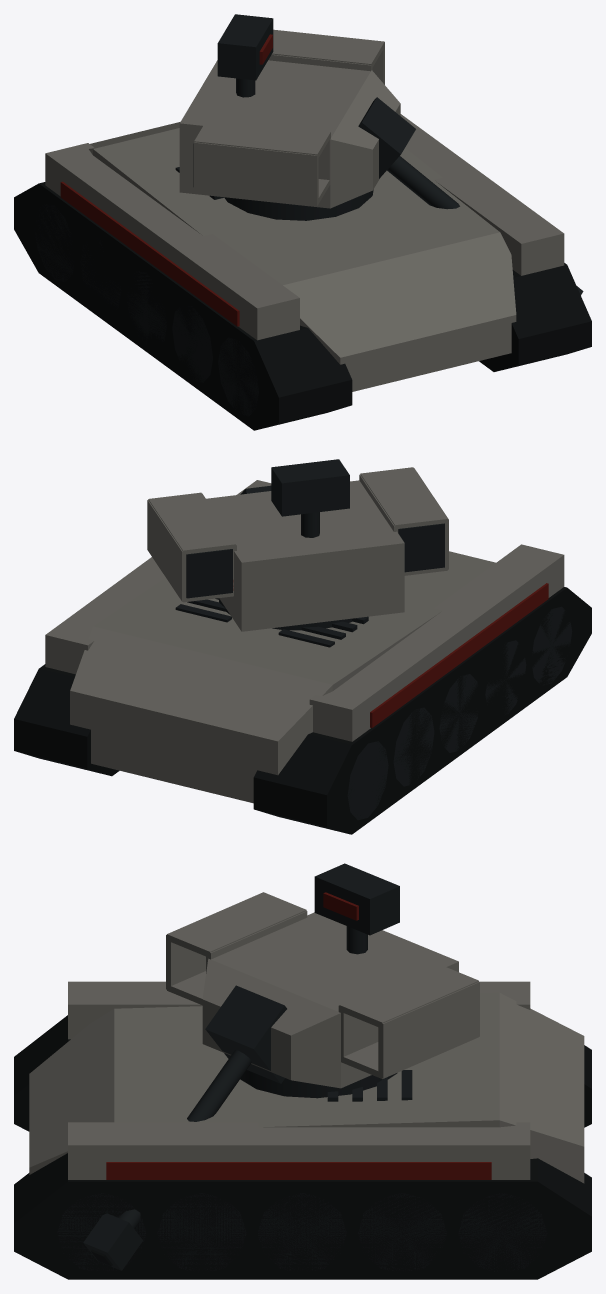
3 views of the same model, one above another, from view 1: azimuth 30°, elevation 25°; view 2: azimuth 150°, elevation 25°; view 3: azimuth 270°, elevation 25° (orthographic). The views are drawn at different scales.
Parts seen in each view (by area): view 1: drone-tank-fleet-armor, drone-tank-fleet-rubber, turret-fleet-armor, launcher--1-fleet-armor, launcher-1-fleet-armor, barrel-fleet-machine, drone-tank-fleet-red, radar-fleet-machine, wheel--1-4-fleet-machine, wheel--1-3-fleet-machine, drone-tank-fleet-machine, wheel--1-0-fleet-machine (+1 smaller); view 2: drone-tank-fleet-armor, drone-tank-fleet-rubber, turret-fleet-armor, launcher-1-fleet-armor, launcher--1-fleet-armor, radar-fleet-machine, drone-tank-fleet-red, wheel--1-0-fleet-machine, launcher-1-fleet-machine, drone-tank-fleet-machine, wheel--1-4-fleet-machine, launcher--1-fleet-machine (+3 smaller); view 3: drone-tank-fleet-armor, drone-tank-fleet-rubber, turret-fleet-armor, launcher-1-fleet-armor, barrel-fleet-machine, drone-tank-fleet-red, launcher--1-fleet-armor, radar-fleet-machine, wheel-1-3-fleet-machine, wheel-1-2-fleet-machine, wheel-1-1-fleet-machine, wheel-1-0-fleet-machine (+3 smaller).
Part boxes in pixels (<box>): drone-tank-fleet-armor: <box>45,114,564,391</box>; drone-tank-fleet-rubber: <box>14,182,591,430</box>; turret-fleet-armor: <box>179,60,400,208</box>; launcher--1-fleet-armor: <box>194,118,330,206</box>; launcher-1-fleet-armor: <box>268,29,384,84</box>; barrel-fleet-machine: <box>358,97,583,295</box>; drone-tank-fleet-red: <box>60,181,239,326</box>; radar-fleet-machine: <box>217,14,273,80</box>; wheel--1-4-fleet-machine: <box>218,337,258,416</box>; wheel--1-3-fleet-machine: <box>172,306,212,382</box>; drone-tank-fleet-machine: <box>175,167,373,220</box>; wheel--1-0-fleet-machine: <box>35,204,73,281</box>; drone-tank-fleet-armor: <box>45,480,564,803</box>; drone-tank-fleet-rubber: <box>14,587,591,834</box>; turret-fleet-armor: <box>206,480,404,631</box>; launcher-1-fleet-armor: <box>147,492,236,602</box>; launcher--1-fleet-armor: <box>359,467,448,575</box>; radar-fleet-machine: <box>271,459,349,516</box>; drone-tank-fleet-red: <box>370,583,548,727</box>; wheel--1-0-fleet-machine: <box>347,741,388,820</box>; launcher-1-fleet-machine: <box>186,549,232,598</box>; drone-tank-fleet-machine: <box>175,598,368,647</box>; wheel--1-4-fleet-machine: <box>532,606,572,685</box>; launcher--1-fleet-machine: <box>398,523,444,572</box>; drone-tank-fleet-armor: <box>29,981,584,1183</box>; drone-tank-fleet-rubber: <box>14,1015,591,1279</box>; turret-fleet-armor: <box>202,912,458,1088</box>; launcher-1-fleet-armor: <box>338,963,479,1078</box>; barrel-fleet-machine: <box>83,985,286,1270</box>; drone-tank-fleet-red: <box>106,1162,491,1179</box>; launcher--1-fleet-armor: <box>166,892,307,1005</box>; radar-fleet-machine: <box>314,863,399,935</box>; wheel-1-3-fleet-machine: <box>157,1193,246,1270</box>; wheel-1-2-fleet-machine: <box>258,1193,346,1270</box>; wheel-1-1-fleet-machine: <box>358,1193,446,1270</box>; wheel-1-0-fleet-machine: <box>458,1193,547,1271</box>.
Bounding box in the file's own units: 15.06 × 11.29 × 19.87.
